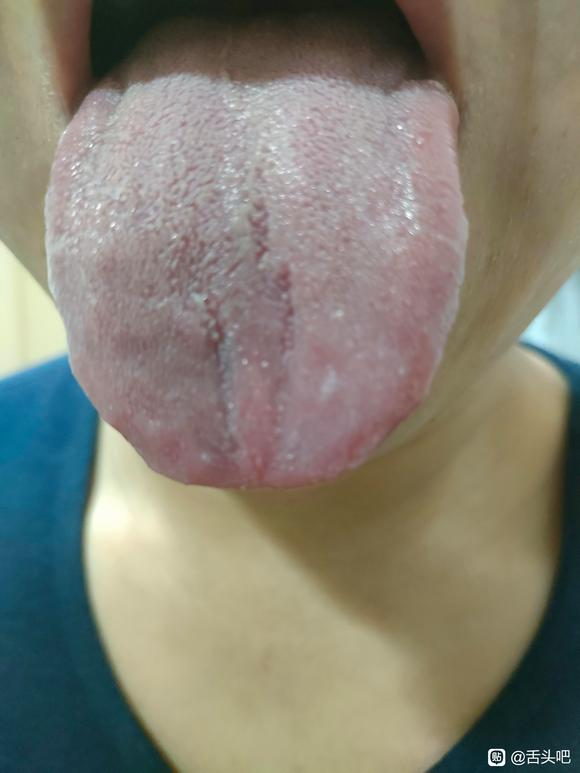baitaishe: (43, 2, 469, 493)
liewenshe: (198, 196, 297, 455)
pangdashe: (43, 2, 469, 493)
